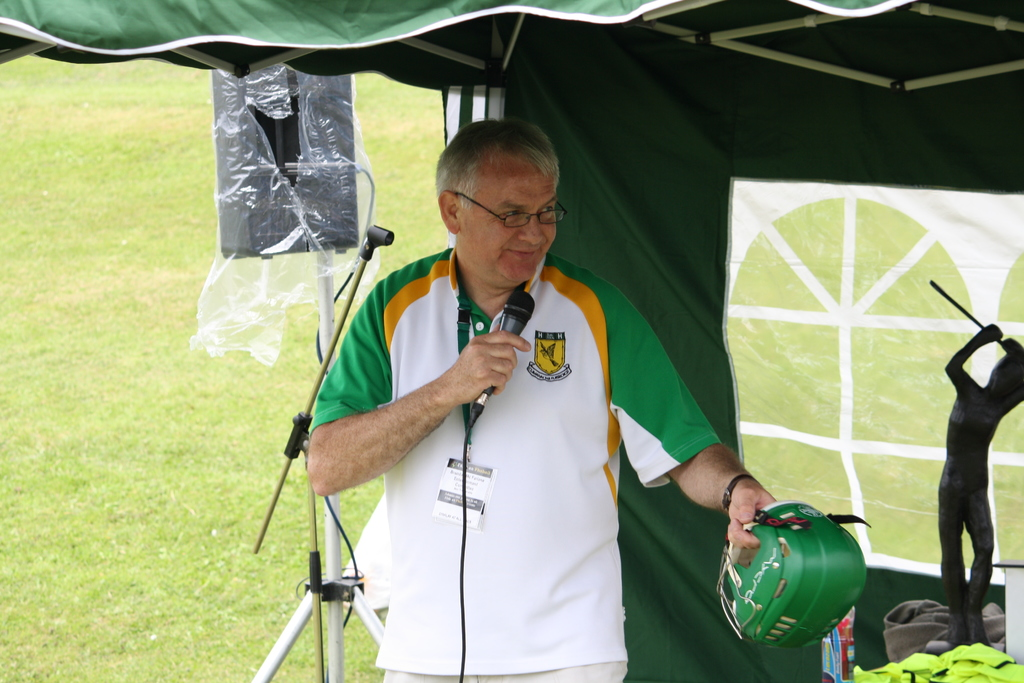Person: (306, 116, 777, 683)
